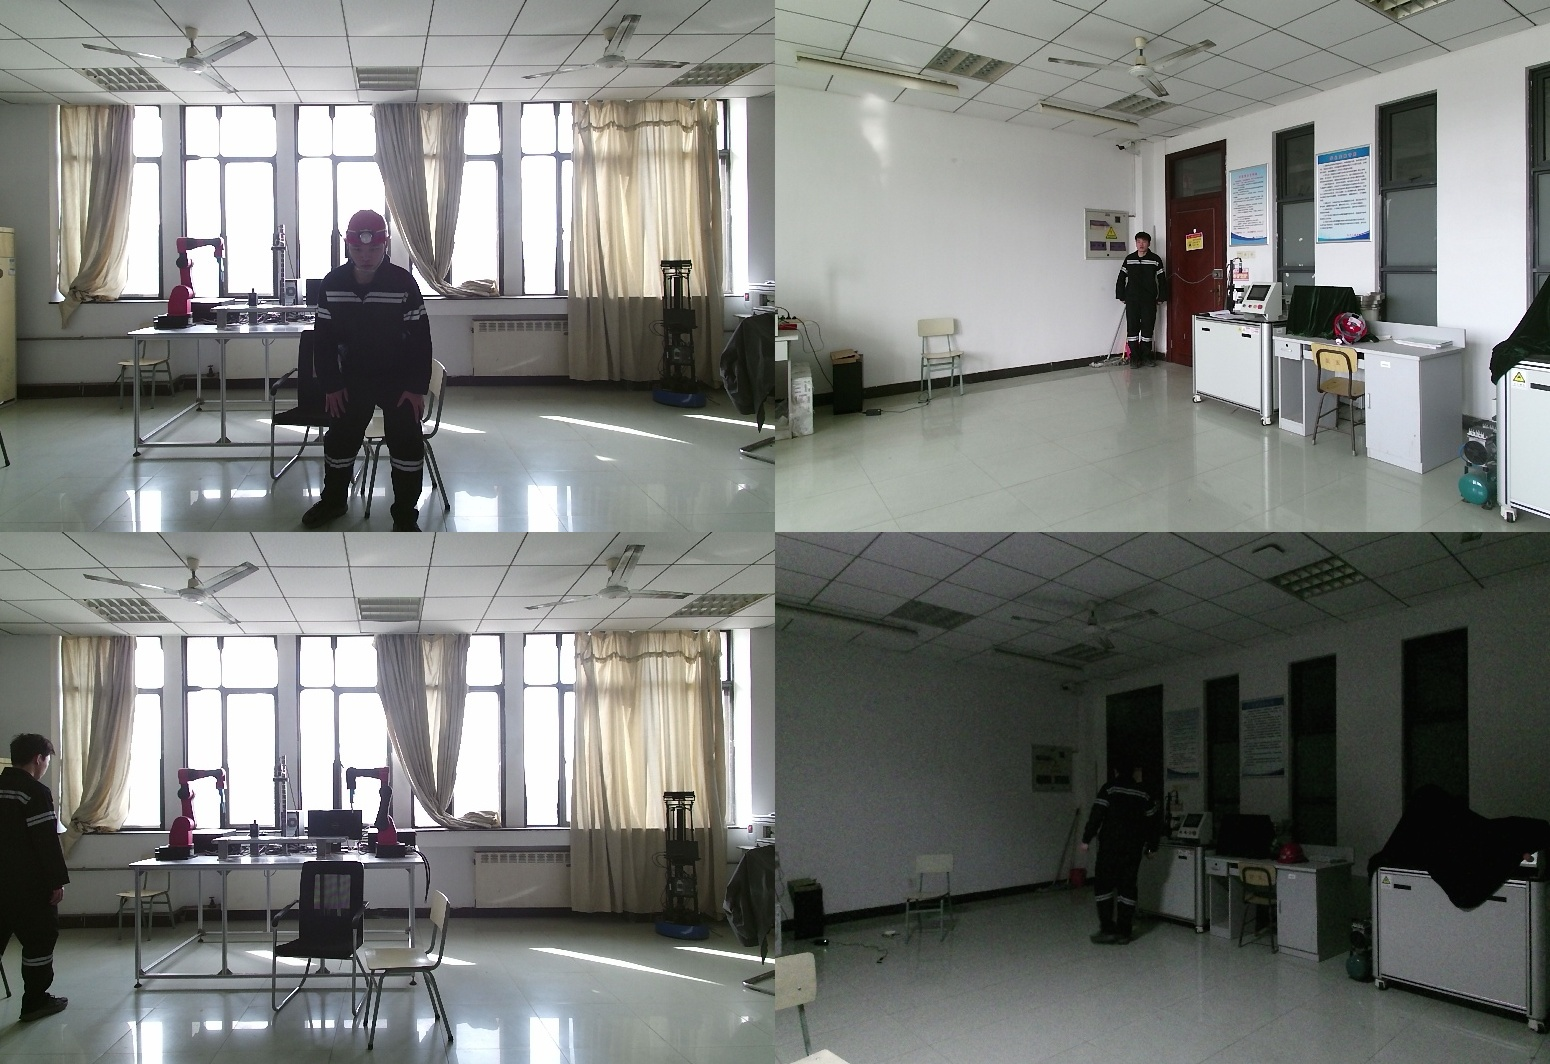person: (308, 211, 451, 532), (2, 734, 75, 1030), (1081, 756, 1171, 953), (1118, 233, 1171, 370)
